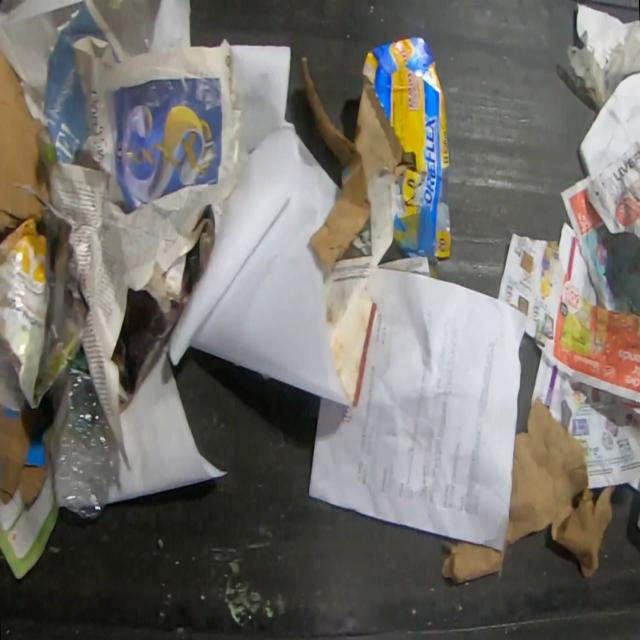cardboard: (300, 35, 453, 278), (0, 214, 83, 426), (0, 48, 52, 240), (0, 398, 52, 512)
rigid_plastic: (50, 343, 123, 522)
soft_plastic: (0, 0, 163, 112), (39, 208, 90, 379), (564, 19, 640, 114)
